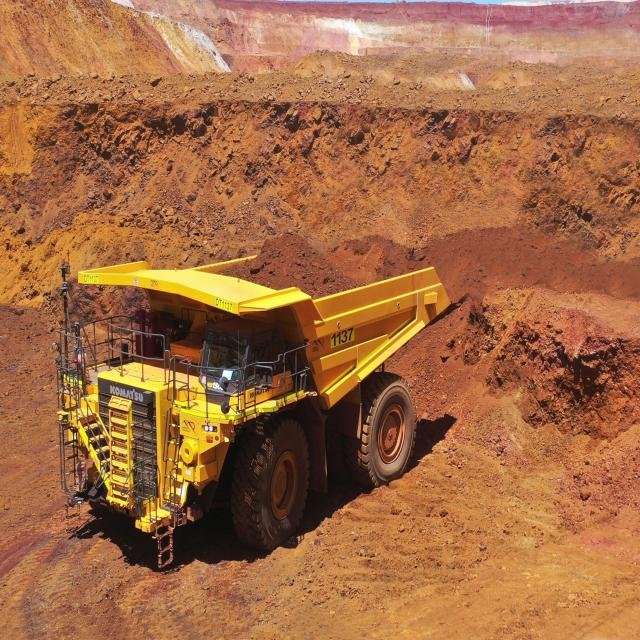dump_truck: (42, 220, 452, 546)
